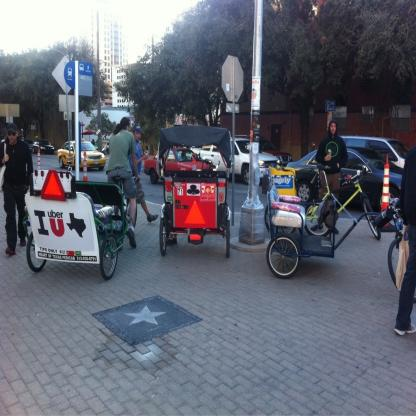Car: (288, 143, 406, 214), (209, 138, 284, 184), (335, 132, 409, 170), (150, 144, 215, 187), (59, 142, 107, 173), (34, 142, 57, 155)
